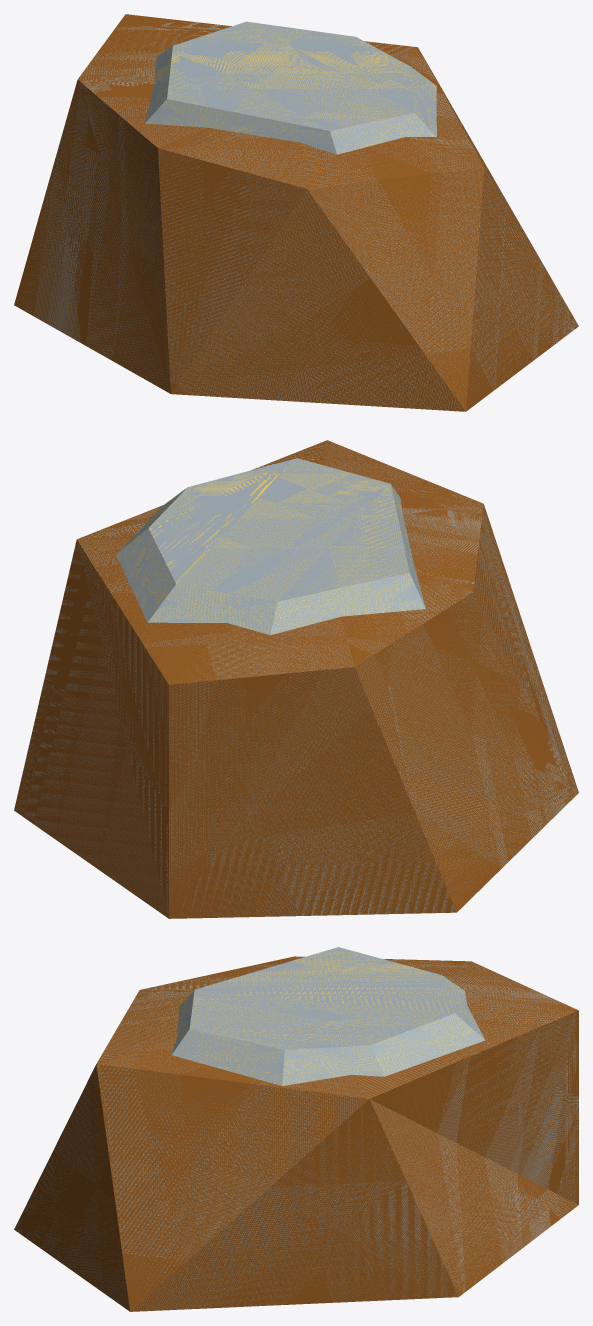
The model's file is Rock_Small_Dirt_Sand_03.fbx.
The picture shows the model from 3 angles, top to bottom: view 1: azimuth 30°, elevation 25°; view 2: azimuth 150°, elevation 25°; view 3: azimuth 270°, elevation 25°; orthographic projection. The views are drawn at different scales.
Visible parts, largest first — view 1: Model; view 2: Model; view 3: Model.
Part boxes in pixels (x1,y1,x2,y2): Model: [14, 14, 578, 411]; Model: [14, 440, 578, 918]; Model: [14, 947, 578, 1311].
Bounding box in the file's own units: 107 × 70.97 × 133.
